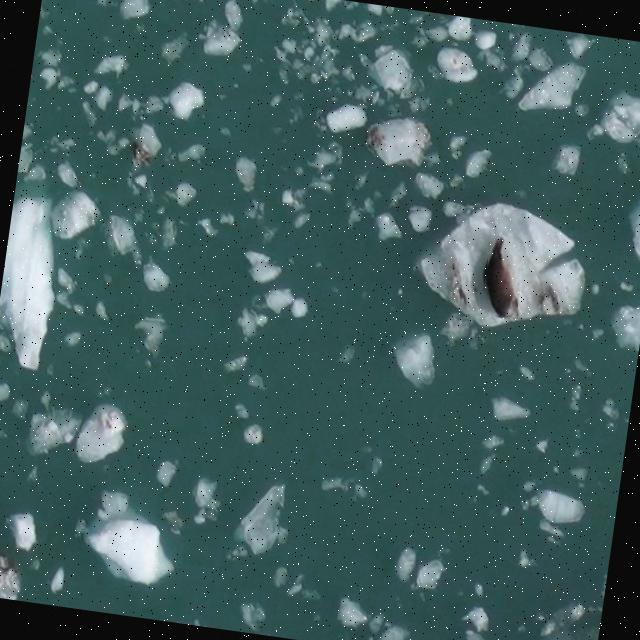seal: (484, 237, 519, 318)
